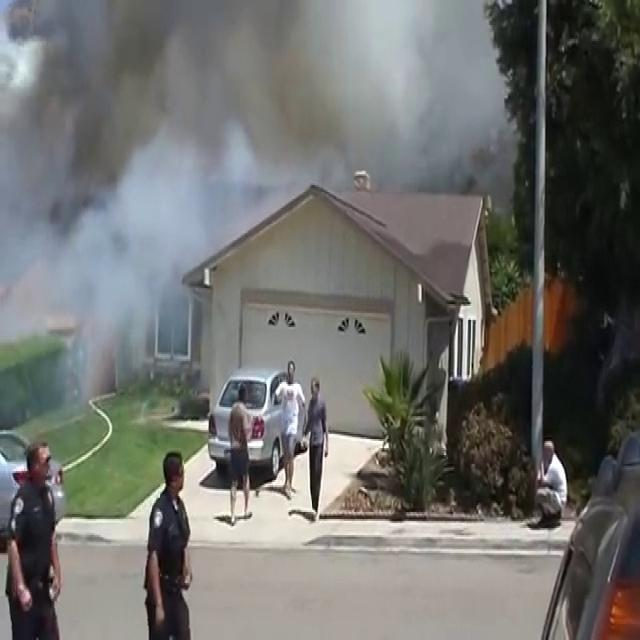Smoke: (0, 0, 503, 213), (0, 0, 250, 366)
